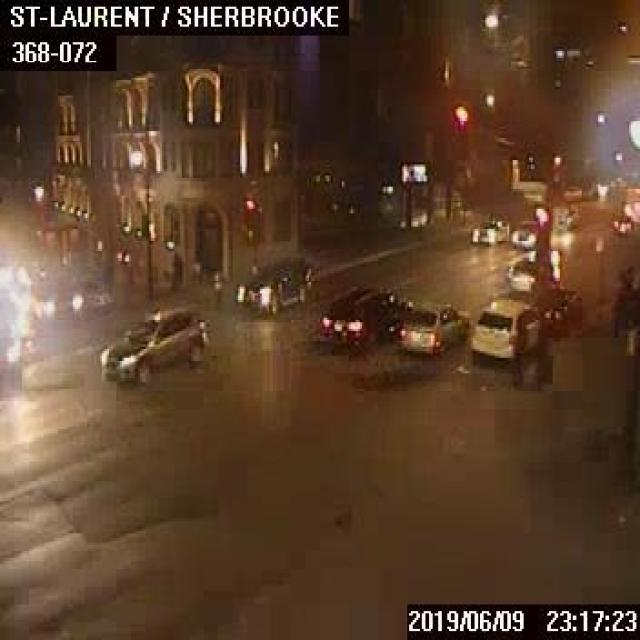pedestrian: (507, 318, 524, 387)
vehicle: (98, 306, 204, 384), (316, 286, 398, 348), (232, 256, 314, 316), (470, 295, 538, 359), (400, 298, 470, 354), (27, 272, 83, 319), (541, 290, 581, 334), (0, 313, 20, 378), (505, 249, 534, 291), (470, 217, 508, 243), (511, 216, 536, 246), (612, 213, 632, 236)
